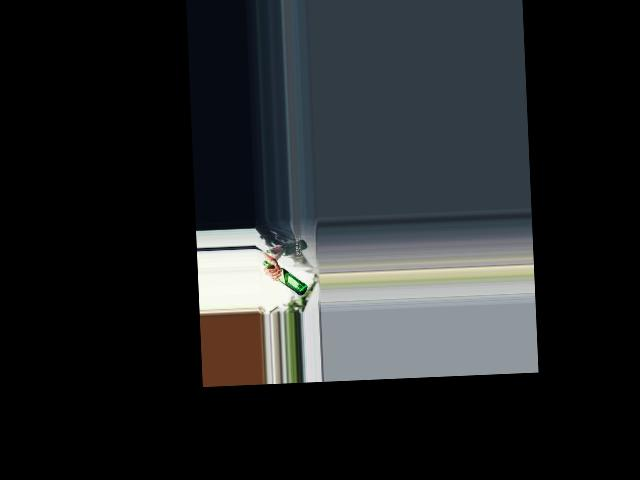beer: (263, 258, 308, 296)
